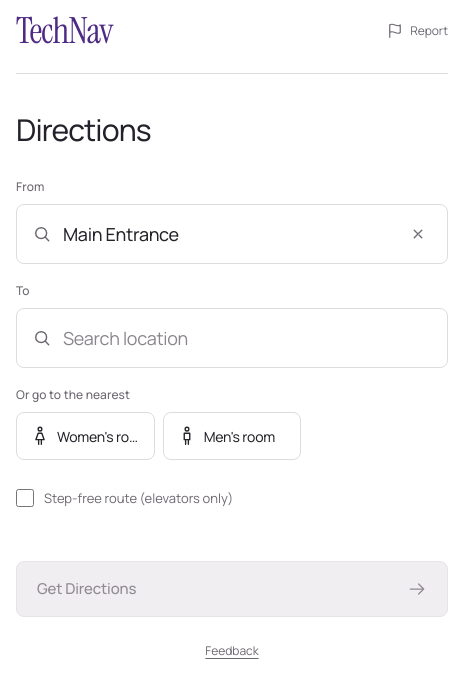
Test: route planning › shows a route failure without losing input and clears it on editing
The width and height of the screenshot is (465, 676).
Type "A112" into the dropdown labelled "To".
click(232, 338); type("A112")  # box [16, 308, 448, 368]
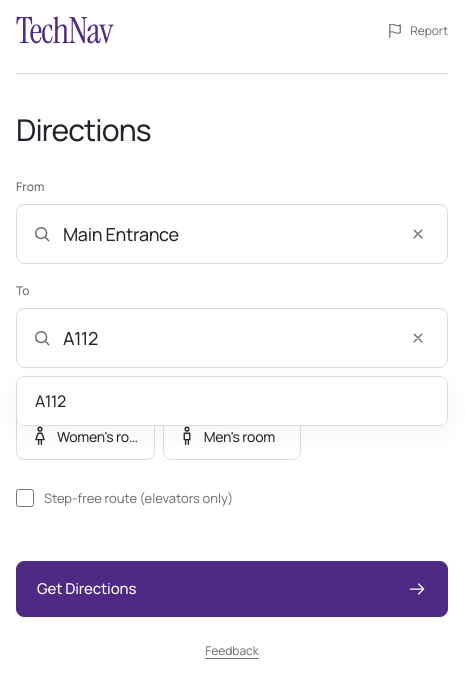
Click the button "Get Directions".
click(87, 588)  # box [16, 561, 448, 617]
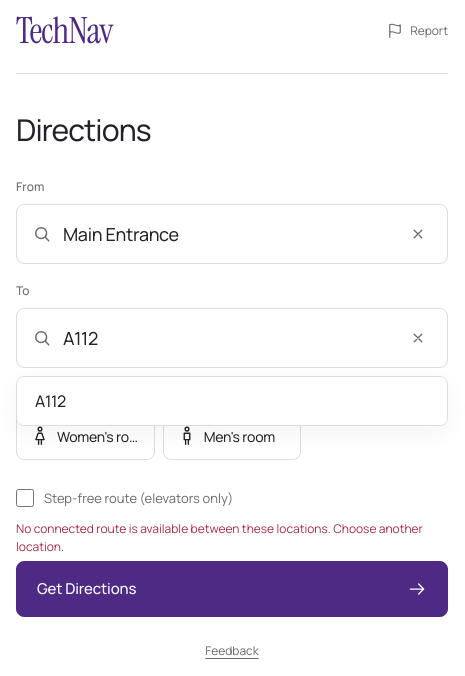
Now the message shows "No connected route", box [16, 520, 423, 555]
Replace the text in the dropdown labelled "To" with "F125" at (232, 338), box [16, 308, 448, 368]
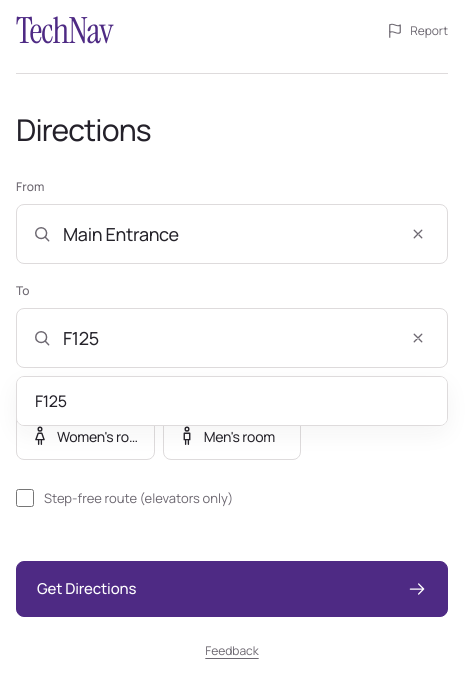
Now the message is gone
